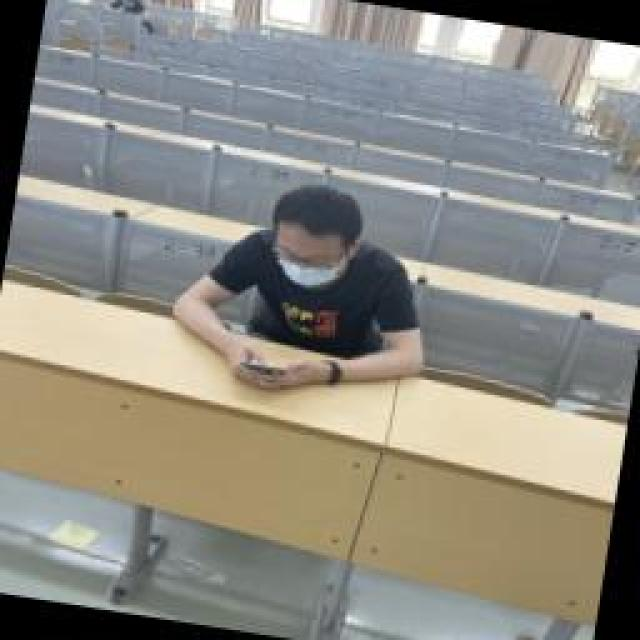phone: (162, 167, 448, 415)
